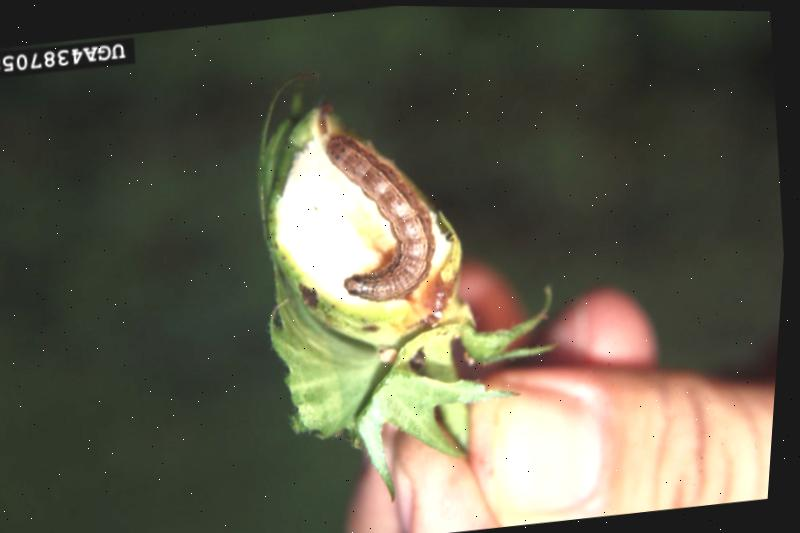fall-armyworm: (328, 133, 440, 300)
